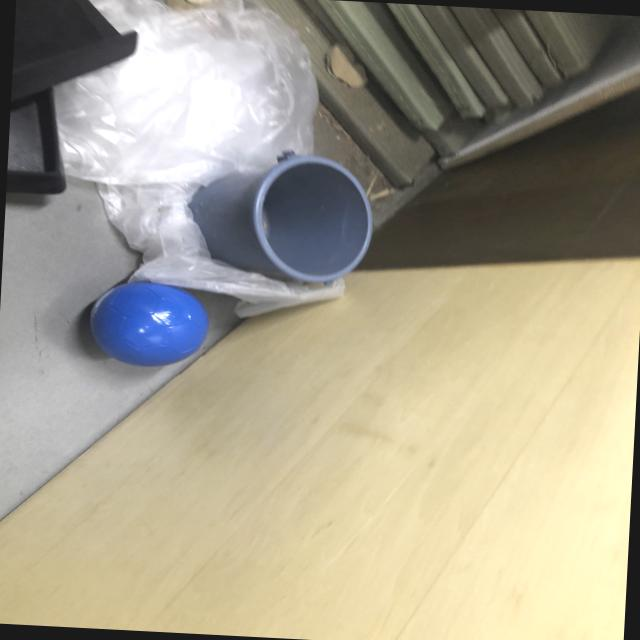blue_ball: (81, 276, 218, 372)
